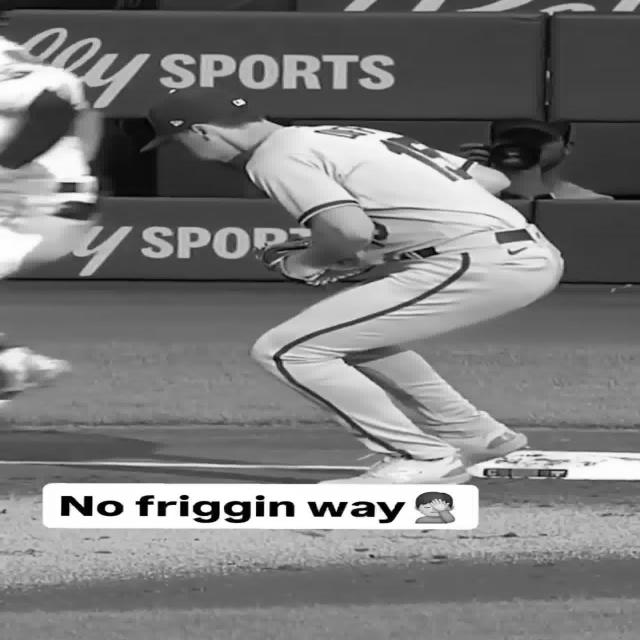base: (469, 450, 640, 480)
baseball_glove: (282, 258, 373, 285), (256, 238, 311, 272)
shoe: (320, 454, 471, 484), (0, 346, 71, 408), (445, 425, 527, 466)
